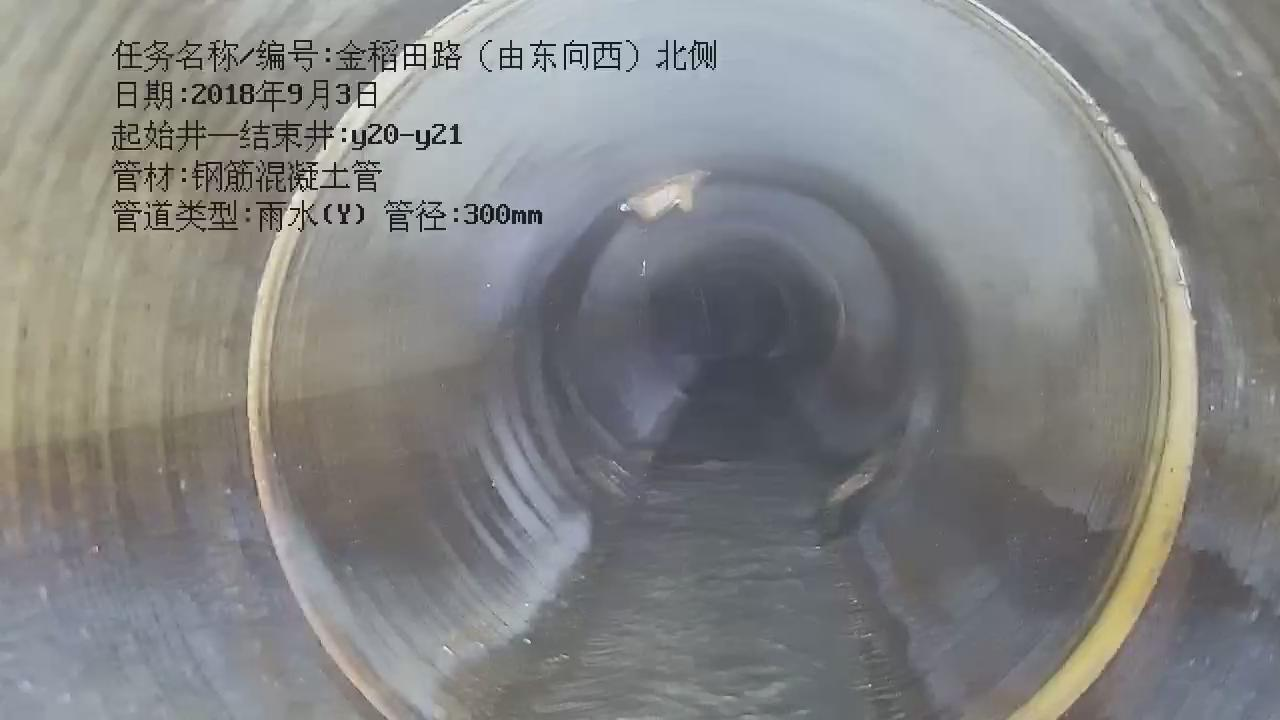CKTJ: (247, 0, 529, 719), (932, 0, 1199, 719)
ZGAJ: (619, 170, 708, 221)
